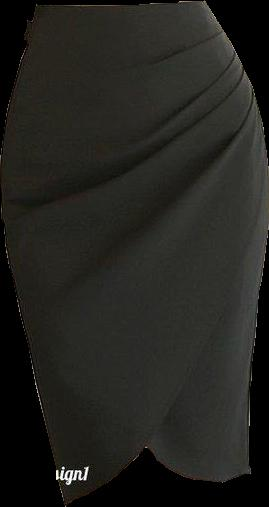Hemline: (64, 156, 268, 504), (144, 441, 251, 482)
Waistline: (37, 0, 206, 11)
